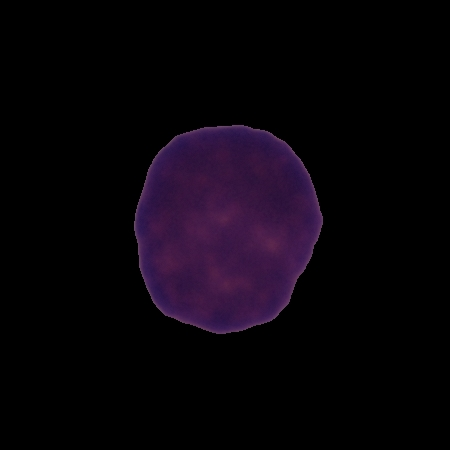HEM: (130, 120, 327, 336)
